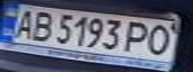1: (69, 14, 87, 47)
3: (103, 16, 127, 52)
5: (51, 11, 75, 45)
9: (84, 16, 106, 50)
A: (6, 7, 39, 39)
B: (24, 8, 57, 43)
O: (142, 22, 178, 56)
P: (121, 20, 157, 54)
